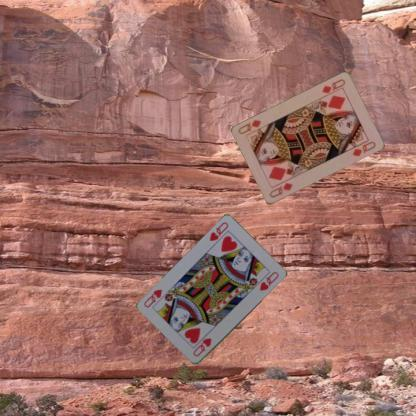Qd: (320, 76, 347, 100), (266, 180, 294, 200)
Qh: (206, 220, 230, 243), (190, 336, 212, 358)
